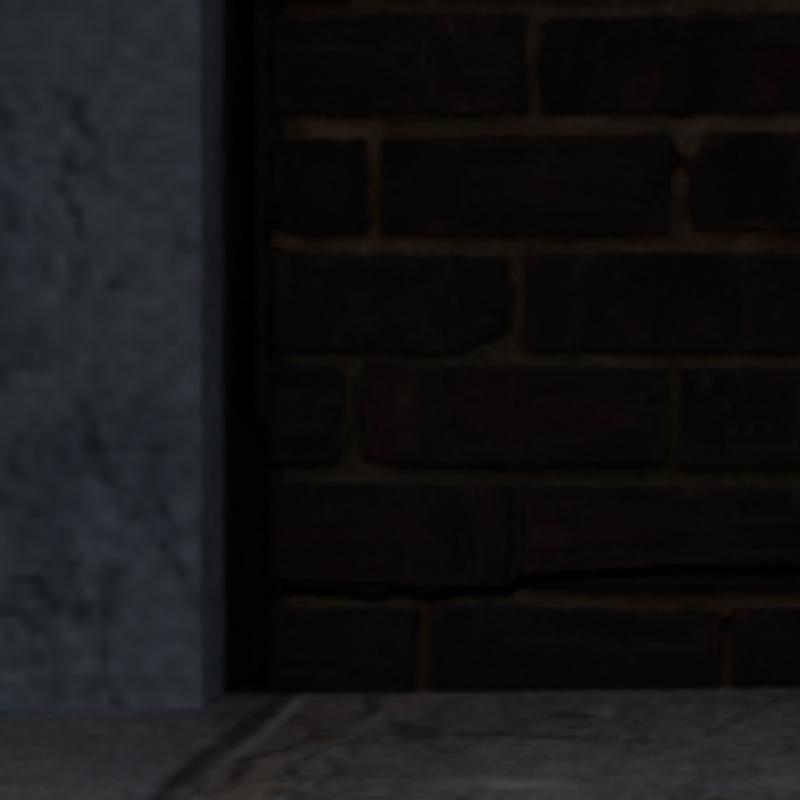pothole: (407, 564, 796, 600), (282, 586, 407, 600), (671, 150, 693, 171)
